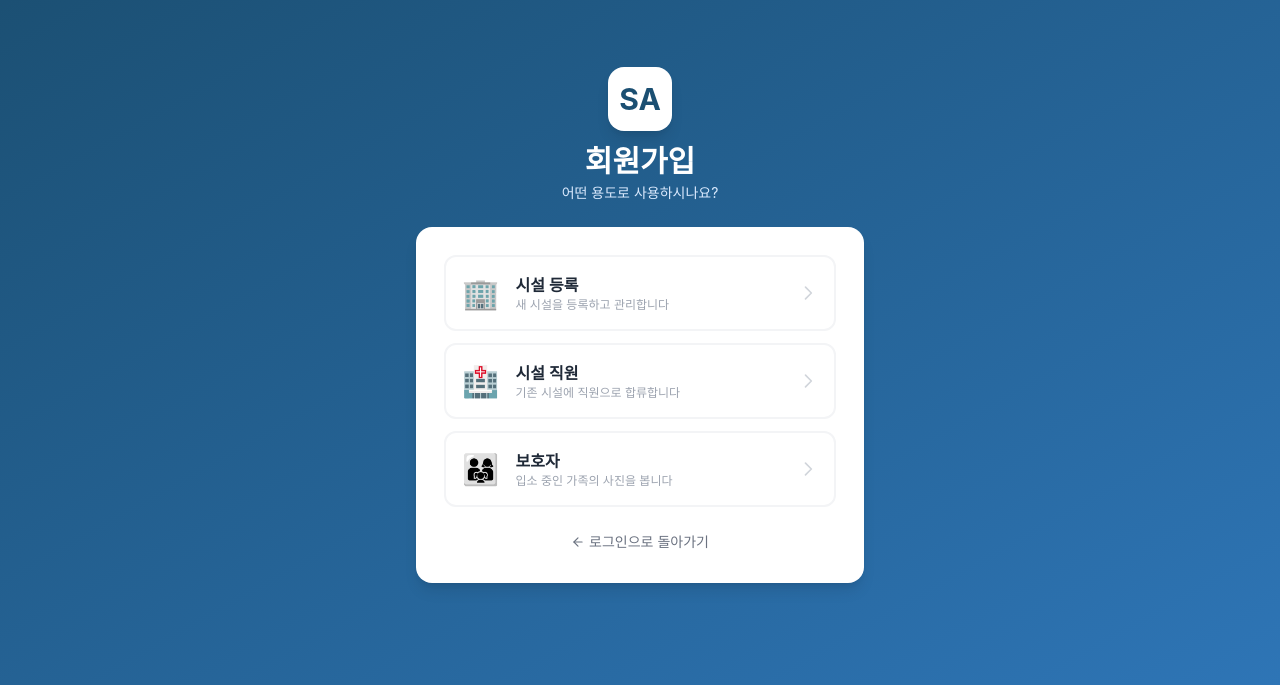
RegisterPage › Step 2 - 시설 관리자(admin) 가입 › 시설코드 발급 안내 메시지가 표시된다
This screenshot has width=1280, height=685.
Click the text "시설 등록": (547, 285) [515, 275, 578, 295]
(page scrolled)
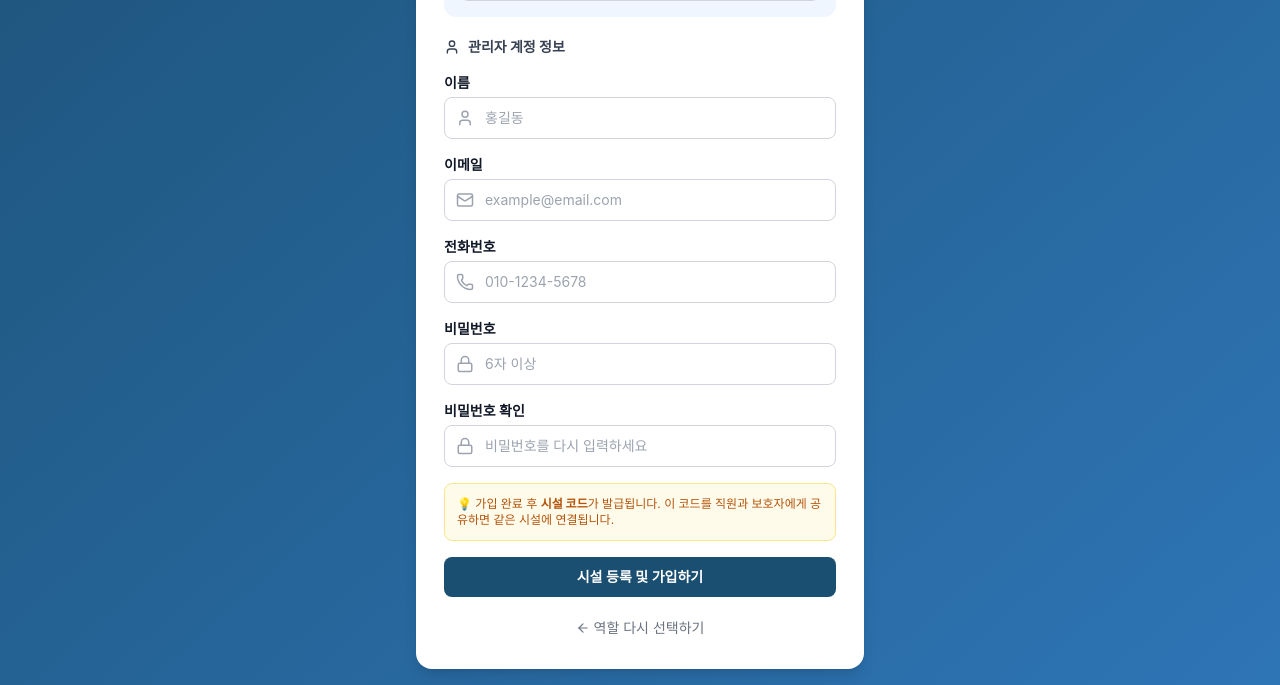
Result: the text "💡 가입 완료 후 시설 코드가 발급됩니다. 이 코드를 직원과 보호자에게 공유하면 같은 시설에 연결됩니다." is shown at [457, 496, 823, 528]
Result: the text "시설 코드" is shown at [541, 496, 588, 511]
